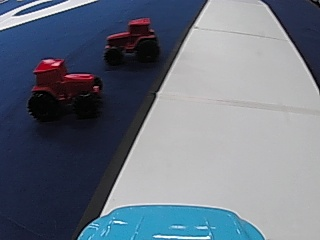Tracktor: (26, 55, 107, 124), (103, 16, 160, 66)
